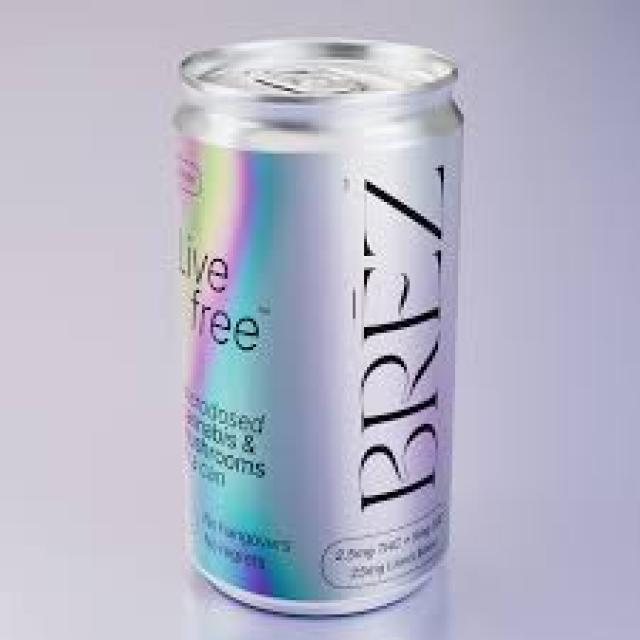Cans: (162, 29, 467, 612)
